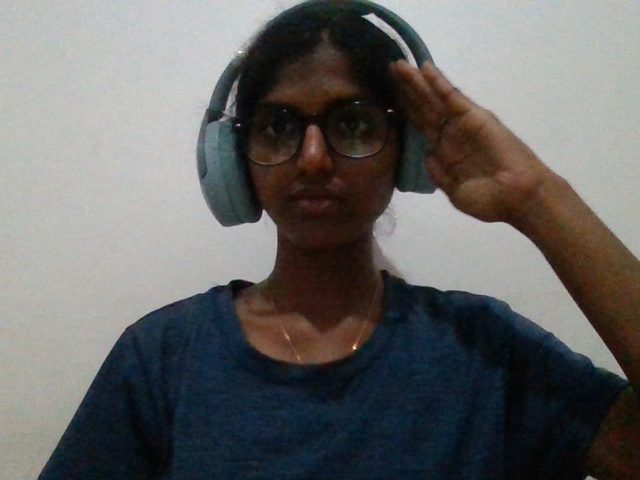Hello: (337, 30, 640, 284)
